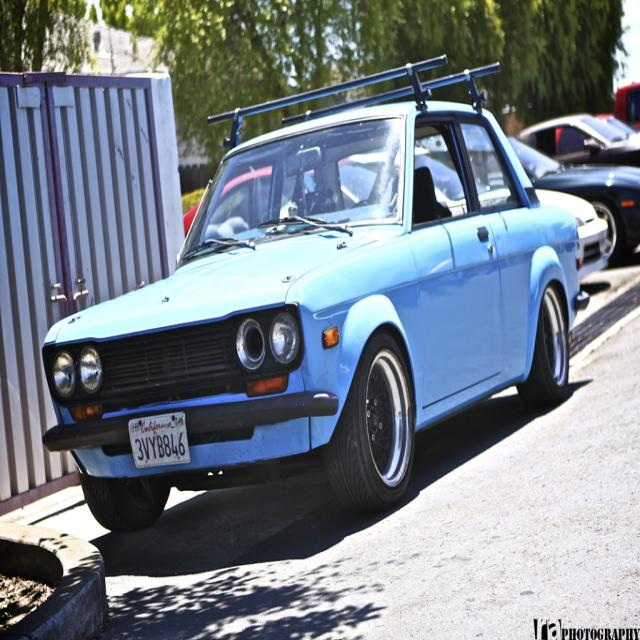car: (38, 47, 594, 534)
